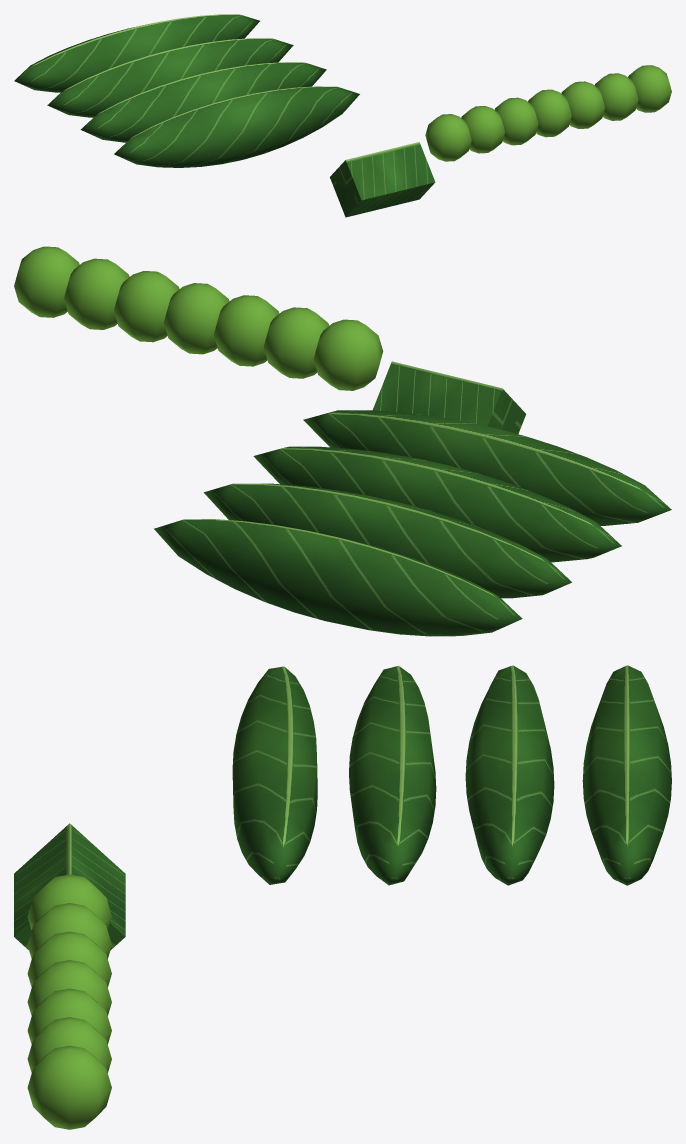
File: veg_pea_pods_open.glb
3 renders of one model, top to bottom at view 1: azimuth 30°, elevation 25°; view 2: azimuth 150°, elevation 25°; view 3: azimuth 270°, elevation 25°, orthographic. The views are drawn at different scales.
Parts seen in each view (by area): view 1: veg_pea_pods_open; view 2: veg_pea_pods_open; view 3: veg_pea_pods_open.
Boxes of the visible parts, <box> form: veg_pea_pods_open: <box>14,14,671,217</box>; veg_pea_pods_open: <box>14,246,671,636</box>; veg_pea_pods_open: <box>14,665,671,1129</box>.
Bounding box in the file's own units: 0.1712 × 0.0285 × 0.1121.
2 materials, 1 textured.
